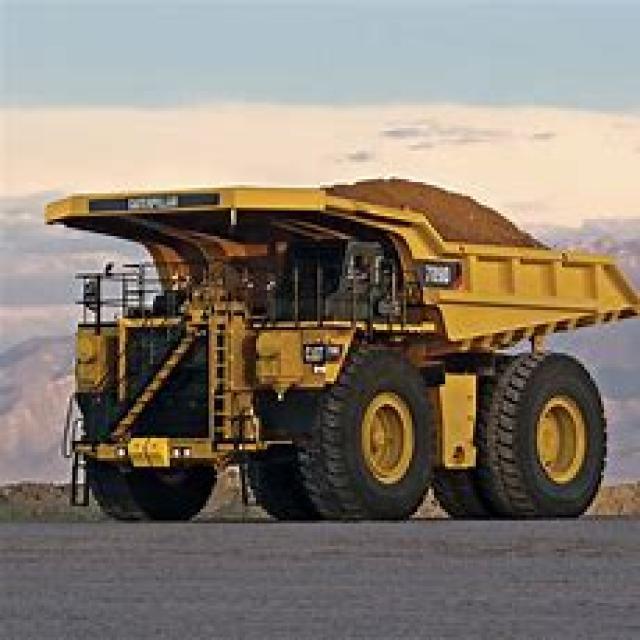dump_truck: (45, 156, 634, 544)
